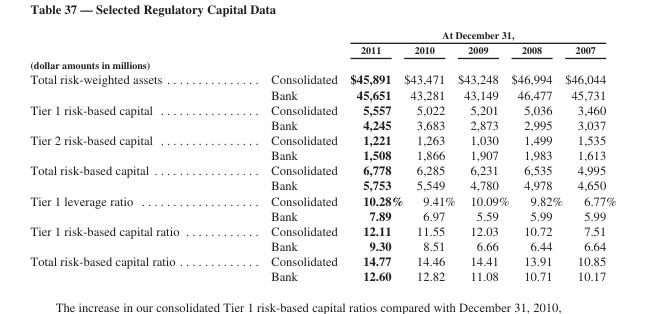table: (29, 28, 615, 283)
table column: (29, 28, 224, 283), (224, 28, 343, 283), (343, 28, 403, 283), (455, 28, 509, 283), (509, 28, 563, 283), (403, 28, 455, 283), (563, 28, 615, 283)
table column header: (29, 28, 615, 57)
table projected row header: (29, 57, 615, 71)
table row: (29, 41, 615, 57), (29, 131, 615, 147), (29, 237, 615, 253), (29, 71, 615, 86), (29, 86, 615, 101), (29, 101, 615, 116), (29, 116, 615, 131), (29, 147, 615, 162), (29, 162, 615, 177), (29, 177, 615, 192), (29, 192, 615, 207), (29, 207, 615, 222), (29, 222, 615, 237), (29, 253, 615, 268), (29, 268, 615, 283), (29, 57, 615, 71), (29, 28, 615, 41)
table spanning cell: (29, 131, 224, 162), (29, 222, 224, 253), (29, 71, 224, 101), (29, 101, 224, 131), (29, 162, 224, 192), (29, 192, 224, 222), (29, 253, 224, 283), (343, 28, 615, 41)
